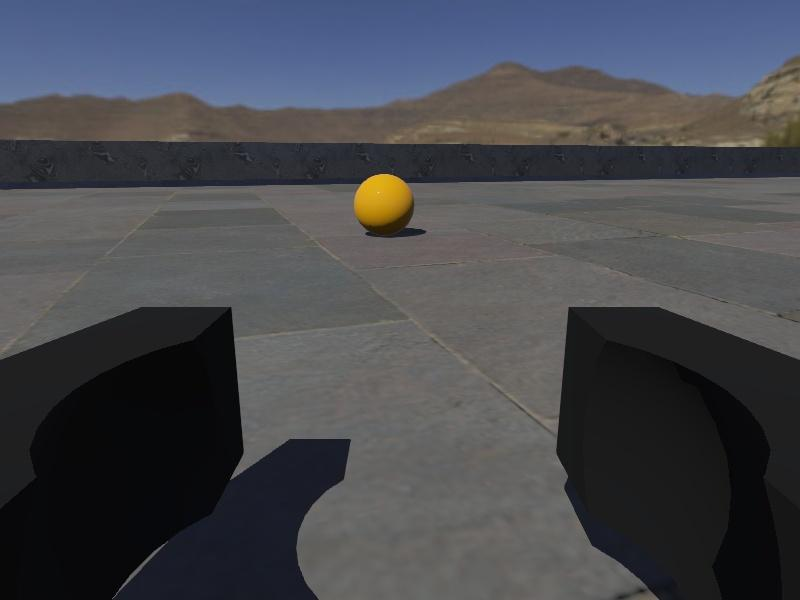orange ball: (353, 172, 416, 238)
